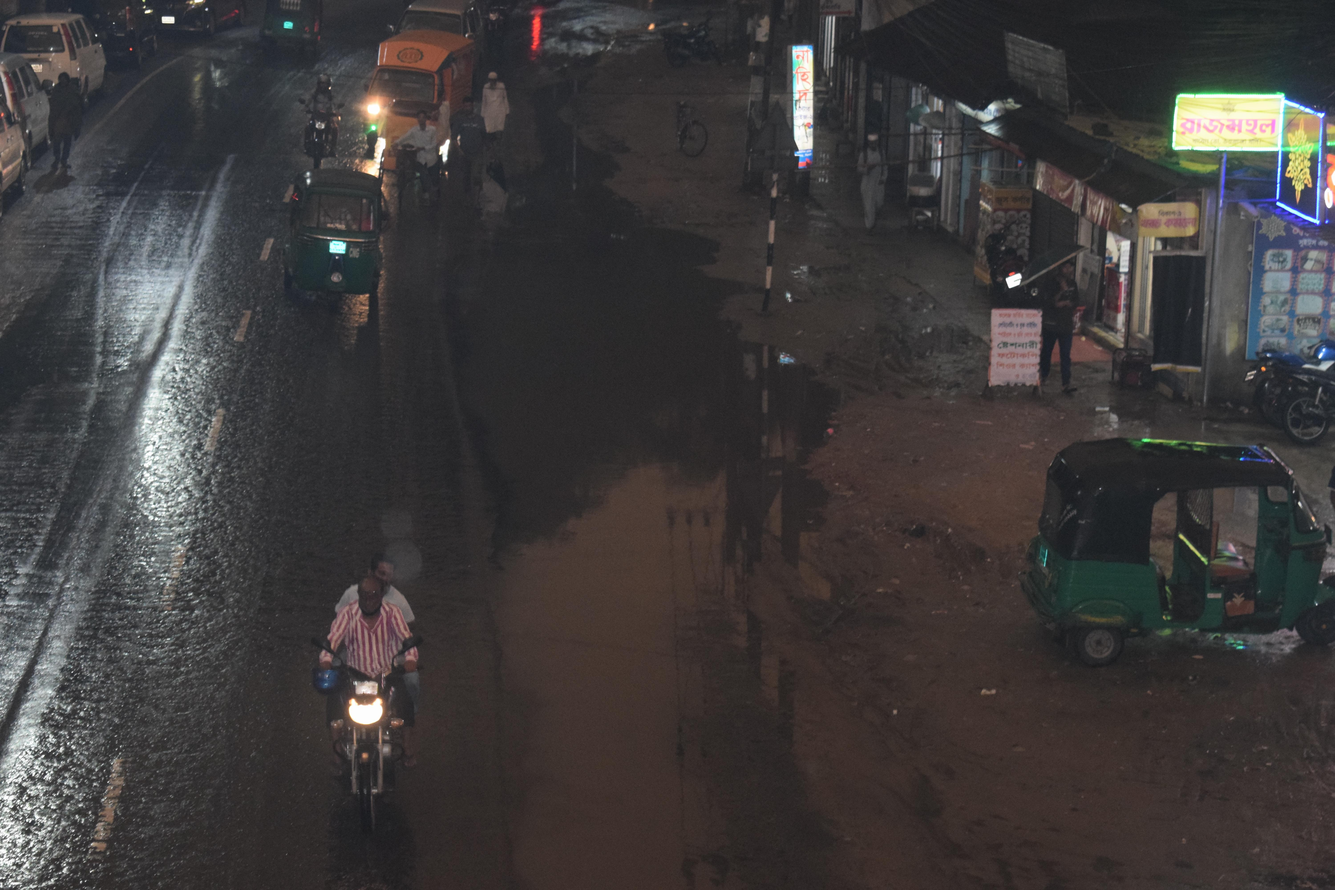Bike: (243, 516, 490, 841), (277, 57, 360, 166)
Car: (357, 29, 498, 185), (0, 0, 129, 99)
